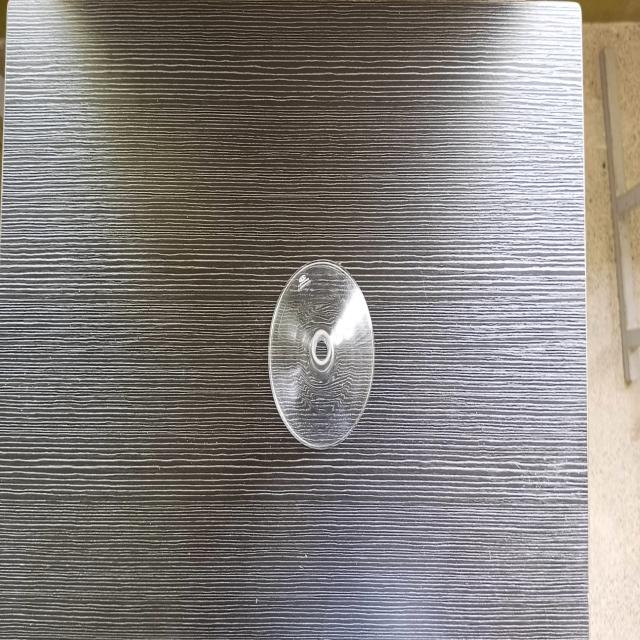funnel: (258, 254, 380, 457)
